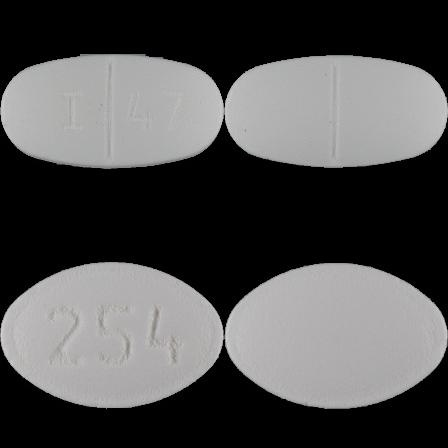43547-250: (0, 0, 224, 224)
